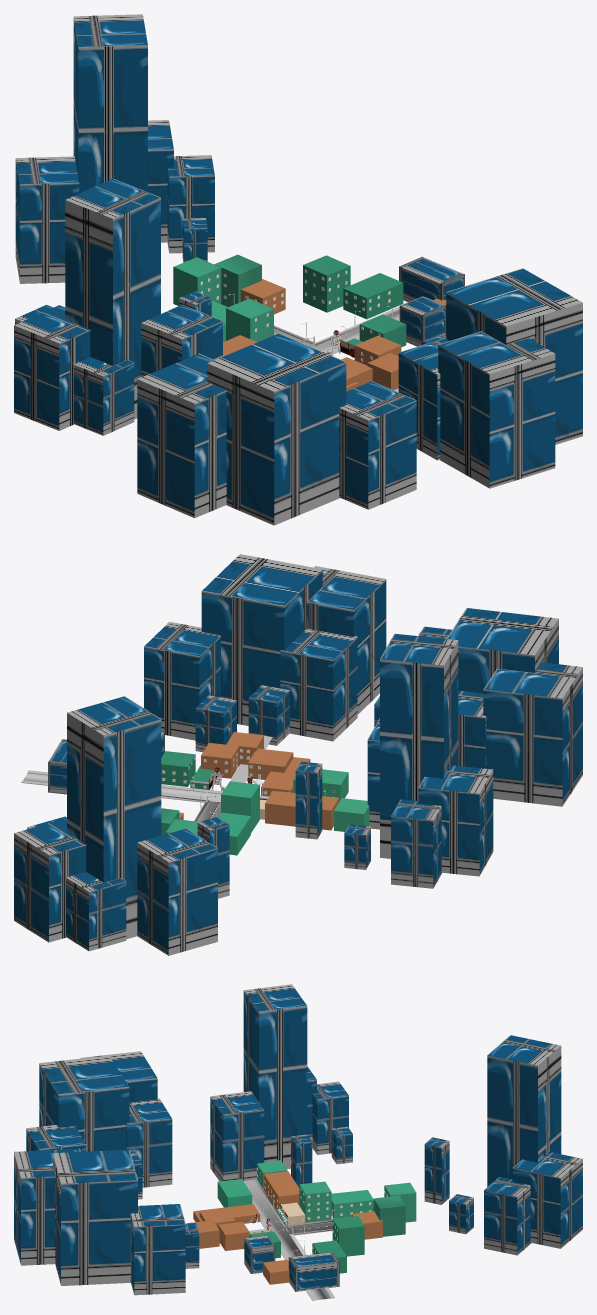
3 renders of one model, top to bottom at view 1: azimuth 30°, elevation 25°; view 2: azimuth 150°, elevation 25°; view 3: azimuth 270°, elevation 25°, orthographic. The views are drawn at different scales.
Visible parts, largest first — view 1: Distant buildings, Buildings, Windows; view 2: Distant buildings, Buildings, Calle 8, Sidewalk South; view 3: Distant buildings, Buildings, Calle 8, Side walk north.
Boxes of the visible parts, x1,y1,x2,y2 form: Distant buildings: [14, 14, 582, 525]; Buildings: [173, 254, 446, 391]; Windows: [200, 269, 390, 361]; Distant buildings: [14, 554, 582, 955]; Buildings: [161, 732, 369, 855]; Calle 8: [23, 773, 220, 802]; Sidewalk South: [27, 735, 272, 799]; Distant buildings: [14, 984, 582, 1295]; Buildings: [188, 1160, 416, 1284]; Calle 8: [243, 1180, 331, 1299]; Side walk north: [253, 1179, 334, 1298].
Size of the model in its own units: 27178 by 12432 by 37185.
